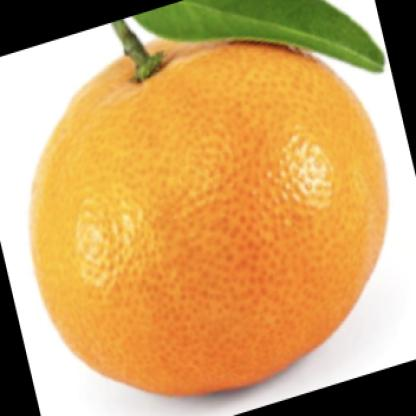fresh: (31, 38, 388, 400)
